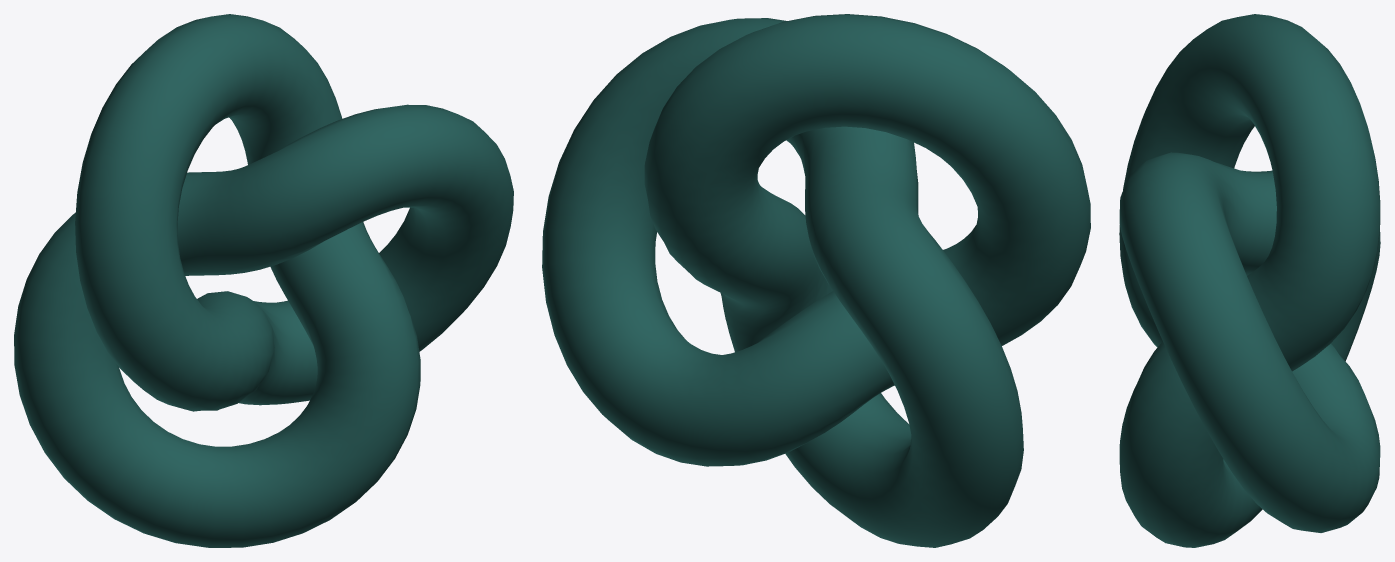
Rendered from knot.glb.
3 renders of one model, left to right at view 1: azimuth 30°, elevation 25°; view 2: azimuth 150°, elevation 25°; view 3: azimuth 270°, elevation 25°, orthographic. The views are drawn at different scales.
Visible parts, largest first — view 1: Knot; view 2: Knot; view 3: Knot.
Boxes of the visible parts, box(x1,y1,x2,y2) form: Knot: box(14, 14, 513, 547); Knot: box(542, 14, 1090, 547); Knot: box(1119, 14, 1380, 547).
Bounding box in the file's own units: 2.01 × 2.09 × 0.9945.
